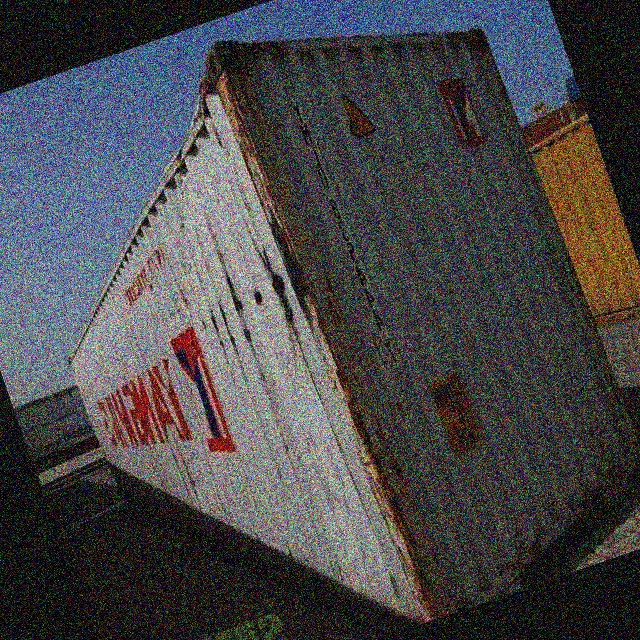Dent: (232, 233, 302, 346), (161, 423, 218, 529)
Hole: (136, 58, 241, 180)
Rusty: (208, 38, 444, 621), (550, 232, 634, 417), (552, 345, 626, 489), (459, 18, 524, 110)
